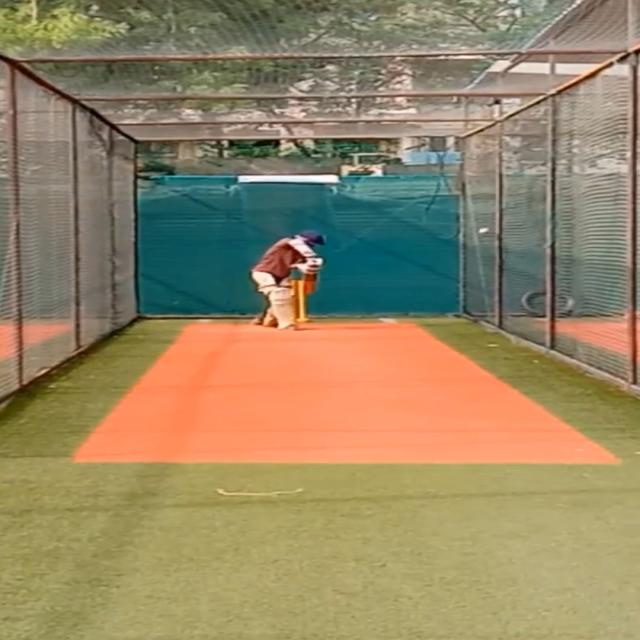ball: (477, 226, 491, 236)
stump: (290, 279, 306, 322)
